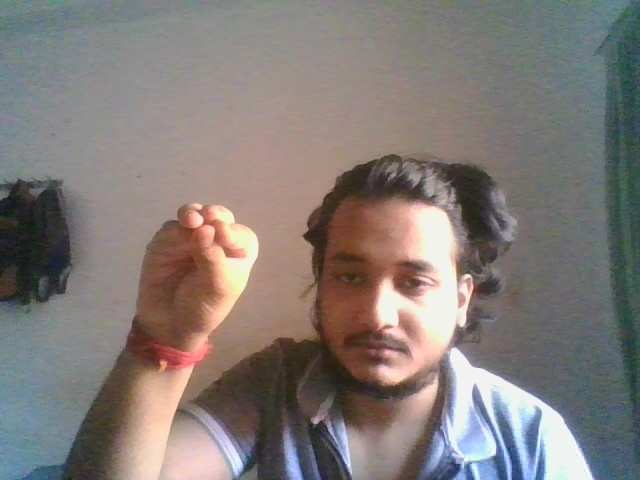Mouth: (135, 201, 260, 334)
